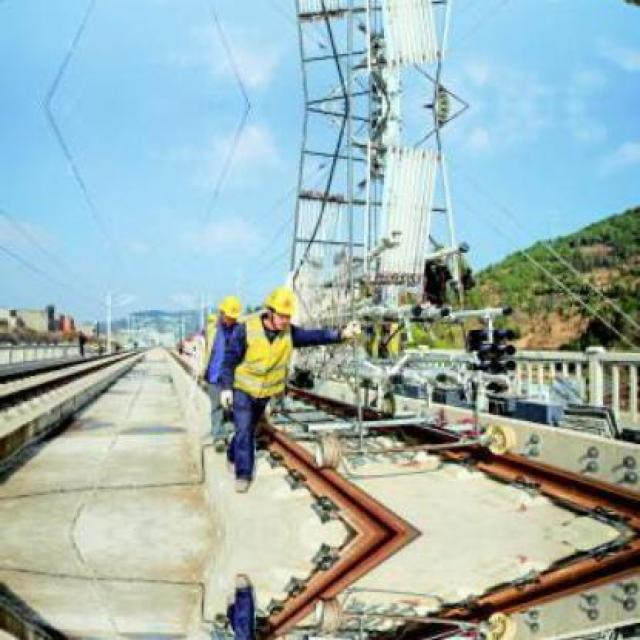Reflective-Jacket: (227, 319, 302, 409)
Safety-Helmet: (257, 281, 304, 324), (216, 290, 247, 325), (456, 238, 474, 255)
